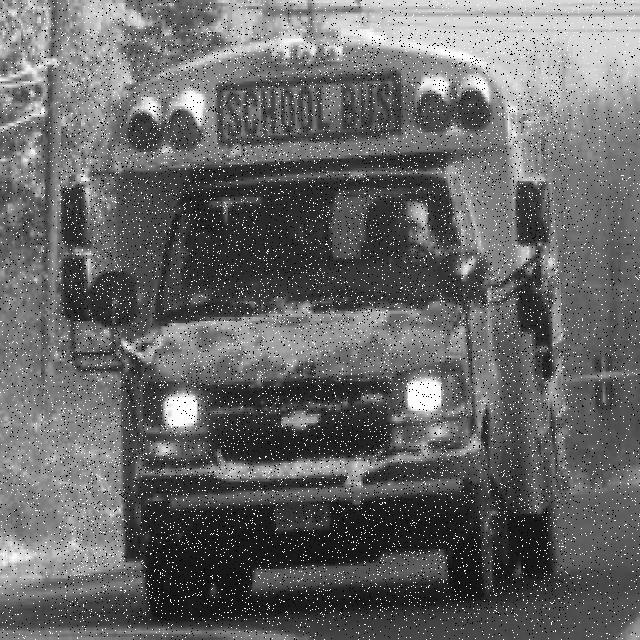Bus- Small: (59, 29, 569, 622)
